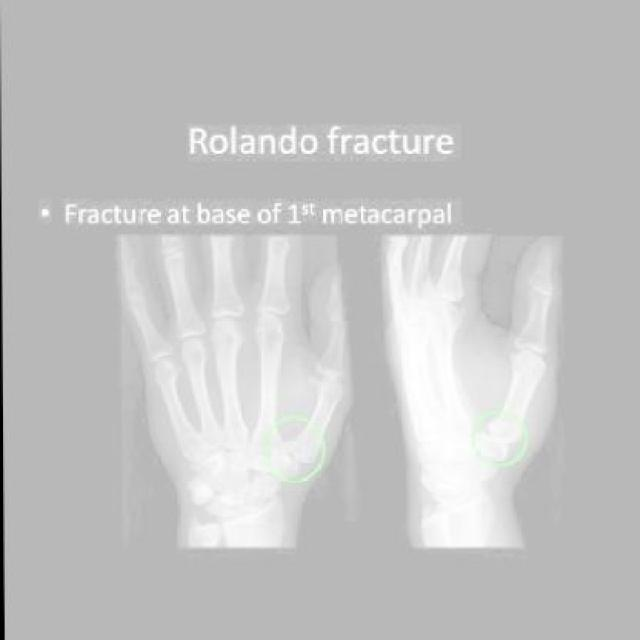Fracture: (485, 419, 519, 459), (274, 426, 307, 464)
